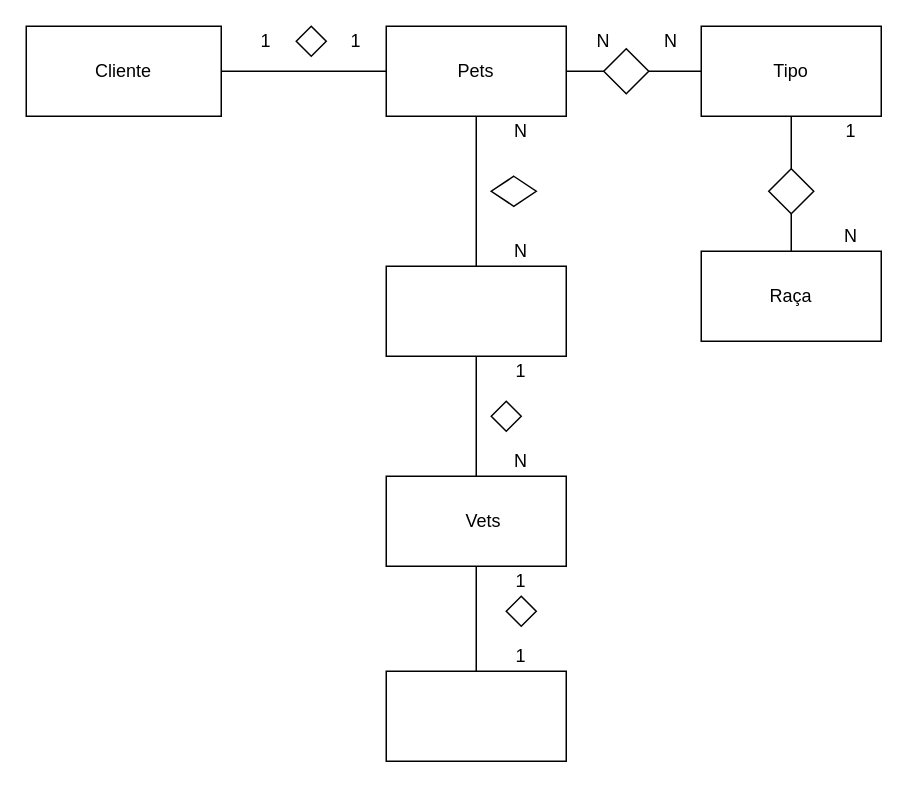
The diagram is 908 pixels wide and 788 high, and some of its shapes have lost their labels. Each missing label, with the box of its shape:
Atendimento: (385, 265, 566, 356)
Clínica: (385, 670, 566, 761)
